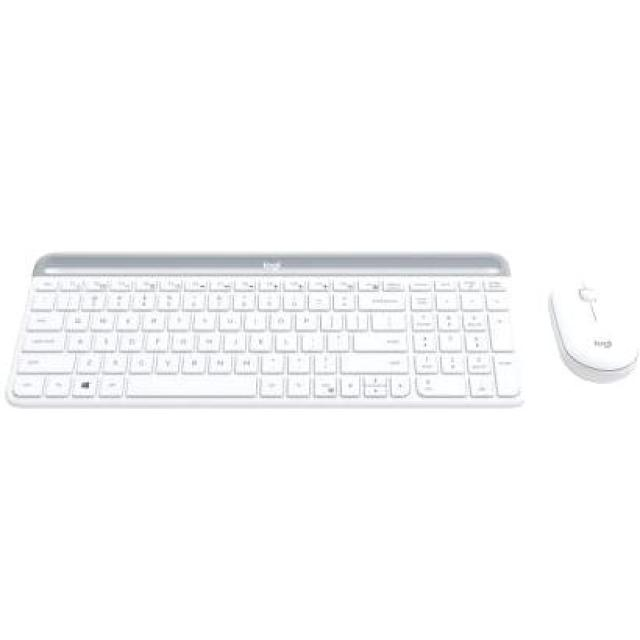keyboard: (0, 248, 532, 410)
